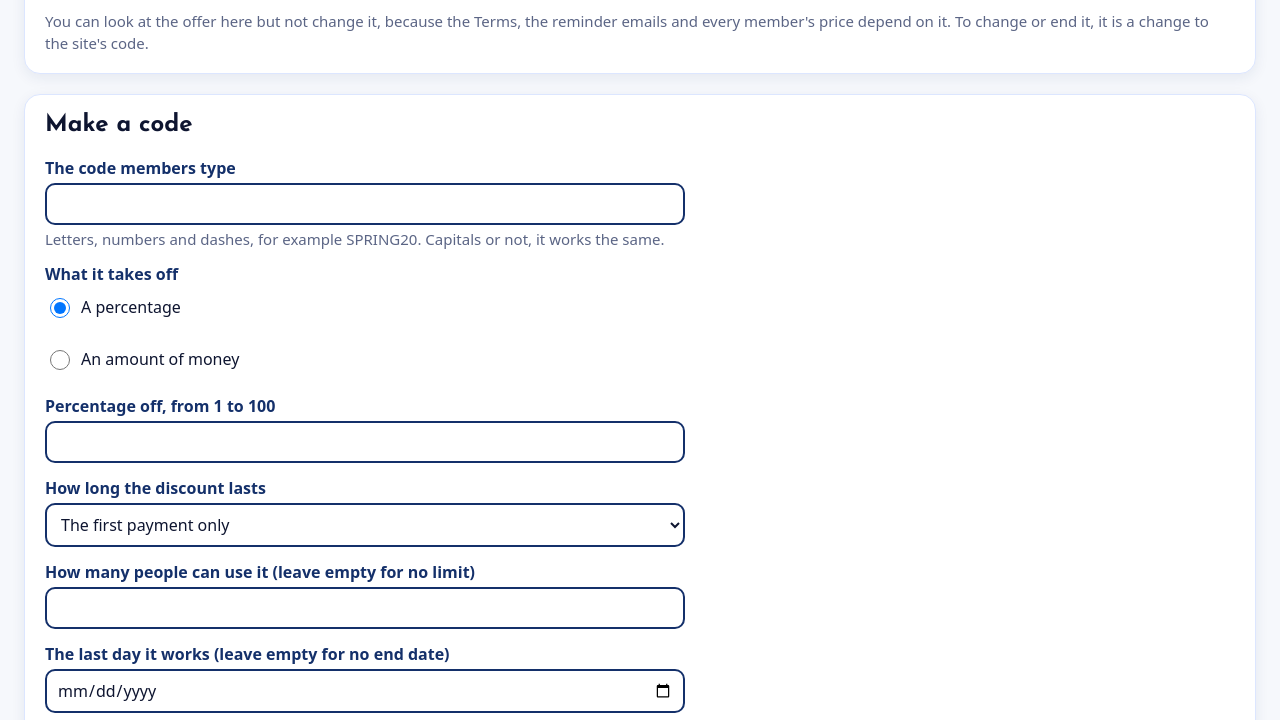
it: the form › changes the question when you choose an amount of money
This screenshot has width=1280, height=720.
(page scrolled)
Click the radio button labelled "An amount of money" at (60, 360), box 50,350 -> 70,370
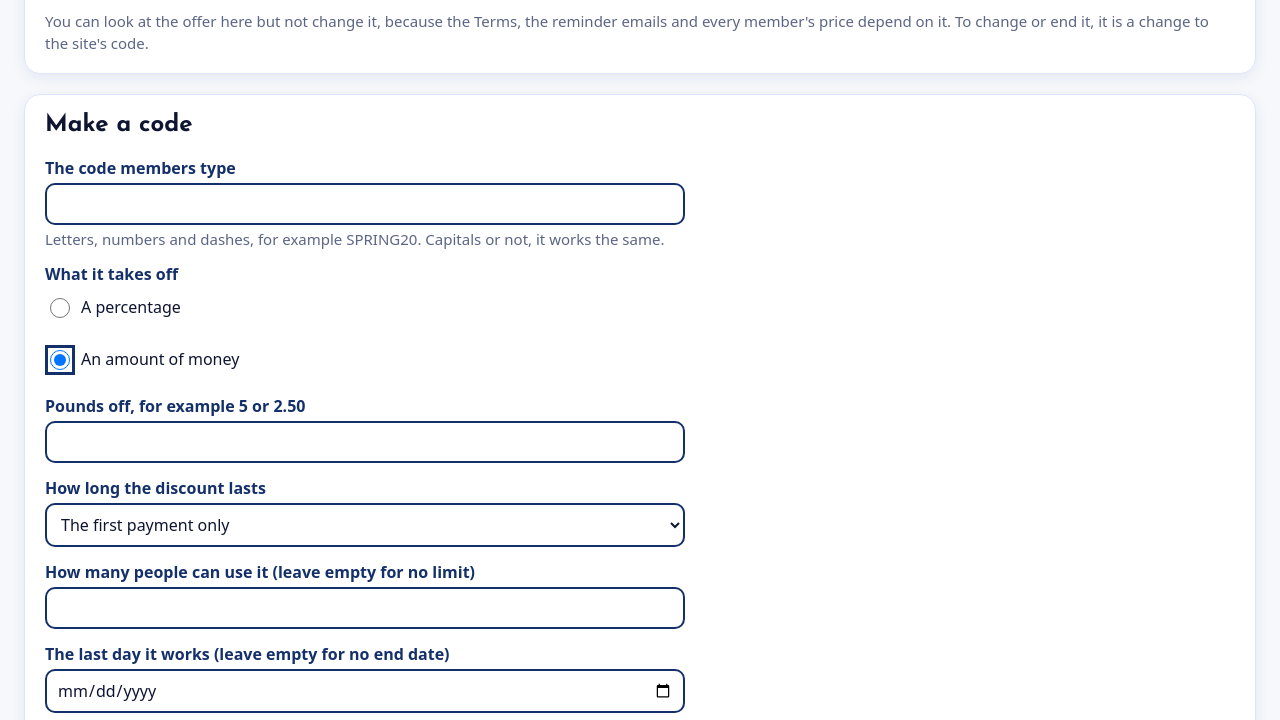
Expected: the field labelled "Pounds off, for example 5 or 2.50" is shown, 45,421 -> 685,463
Expected: the label labelled "Percentage off, from 1 to 100" is gone
